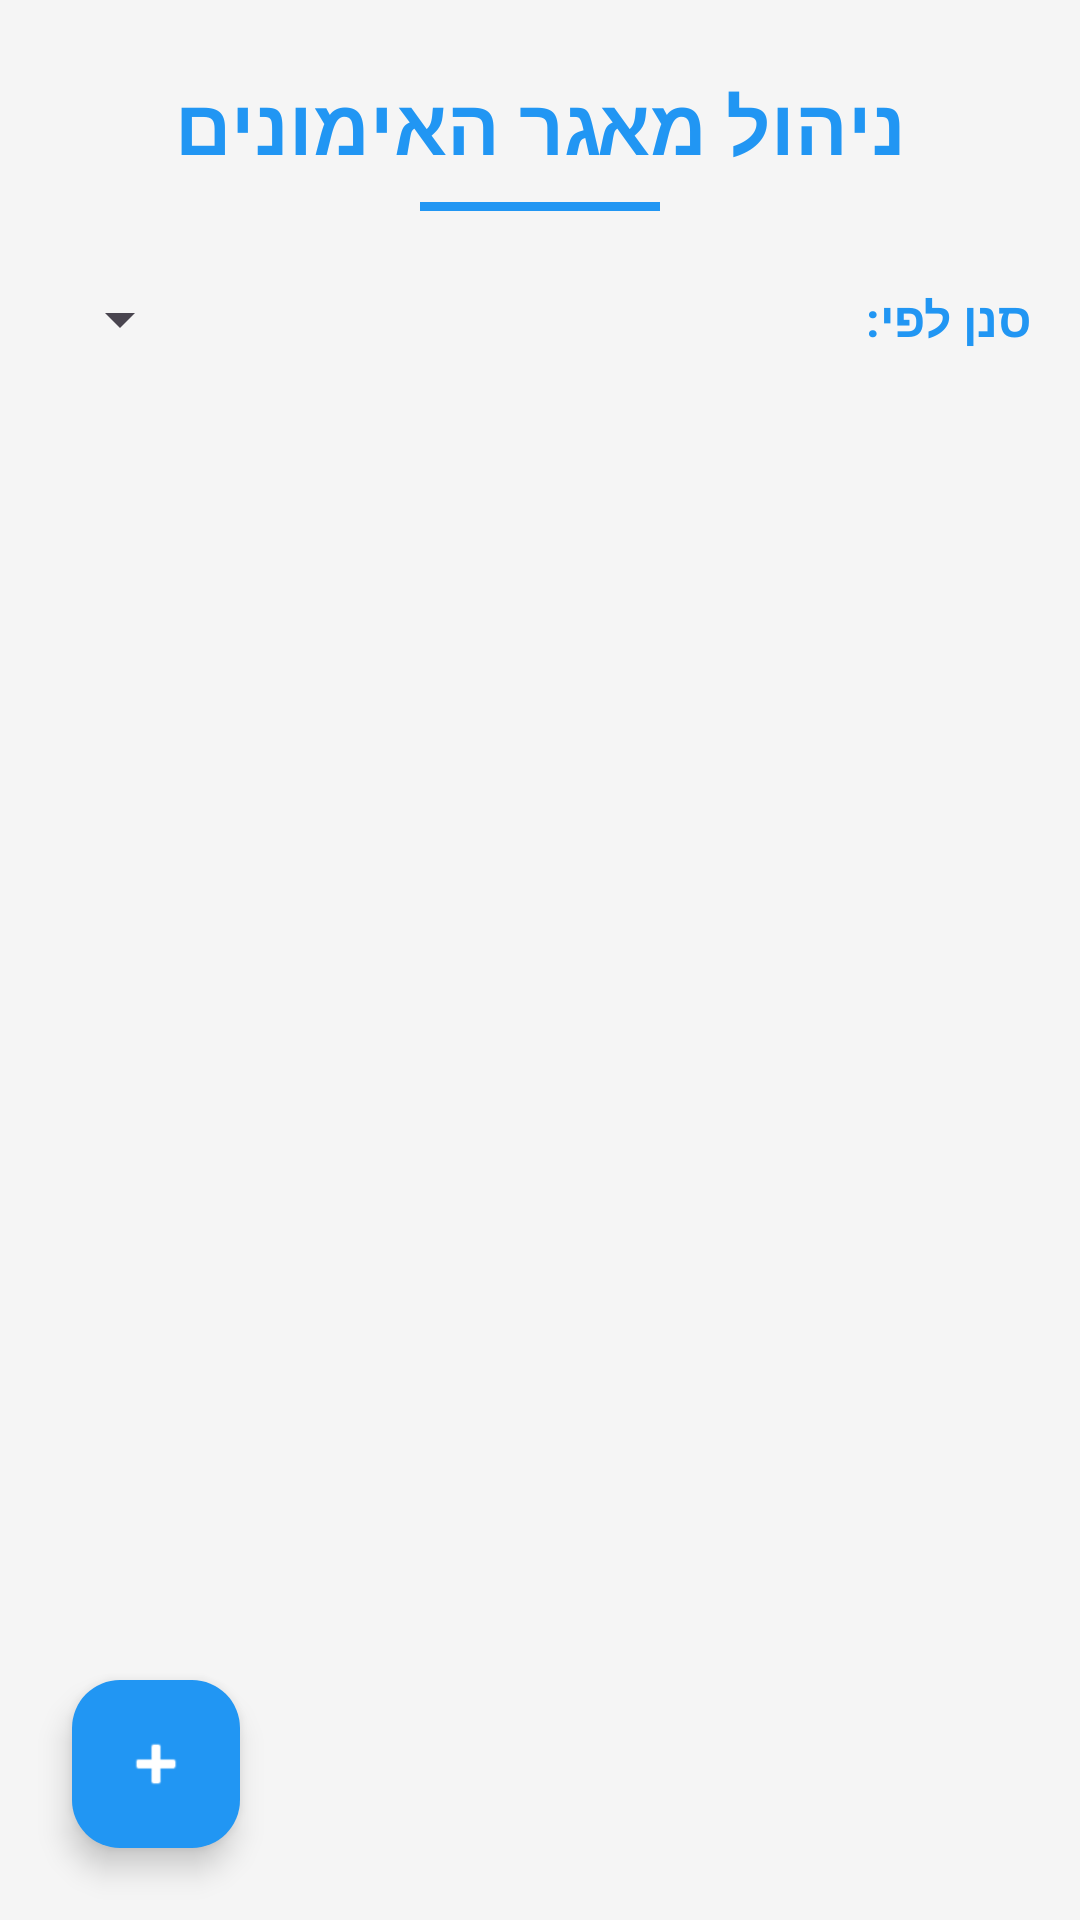

Named icons in this screenshot (1080px x 1920px) and their bounding boxes, (x1, y1, x2, y2):
add: (72, 1680, 240, 1848)
